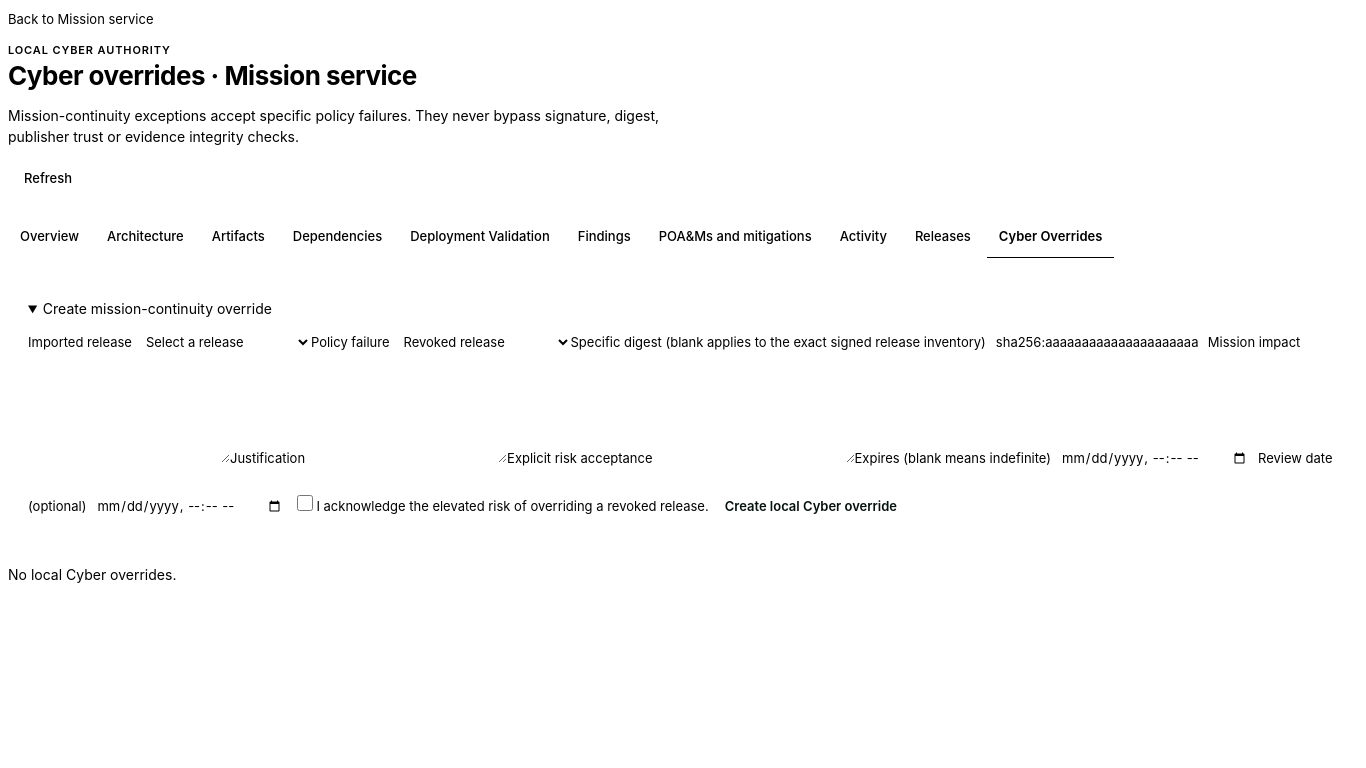
Scenario: preserves exact denial scope and supports an indefinite explicit risk acceptance
Select "Release 4 · revoked" in the dropdown labelled "Imported release" at (221, 342), box [132, 324, 311, 360]
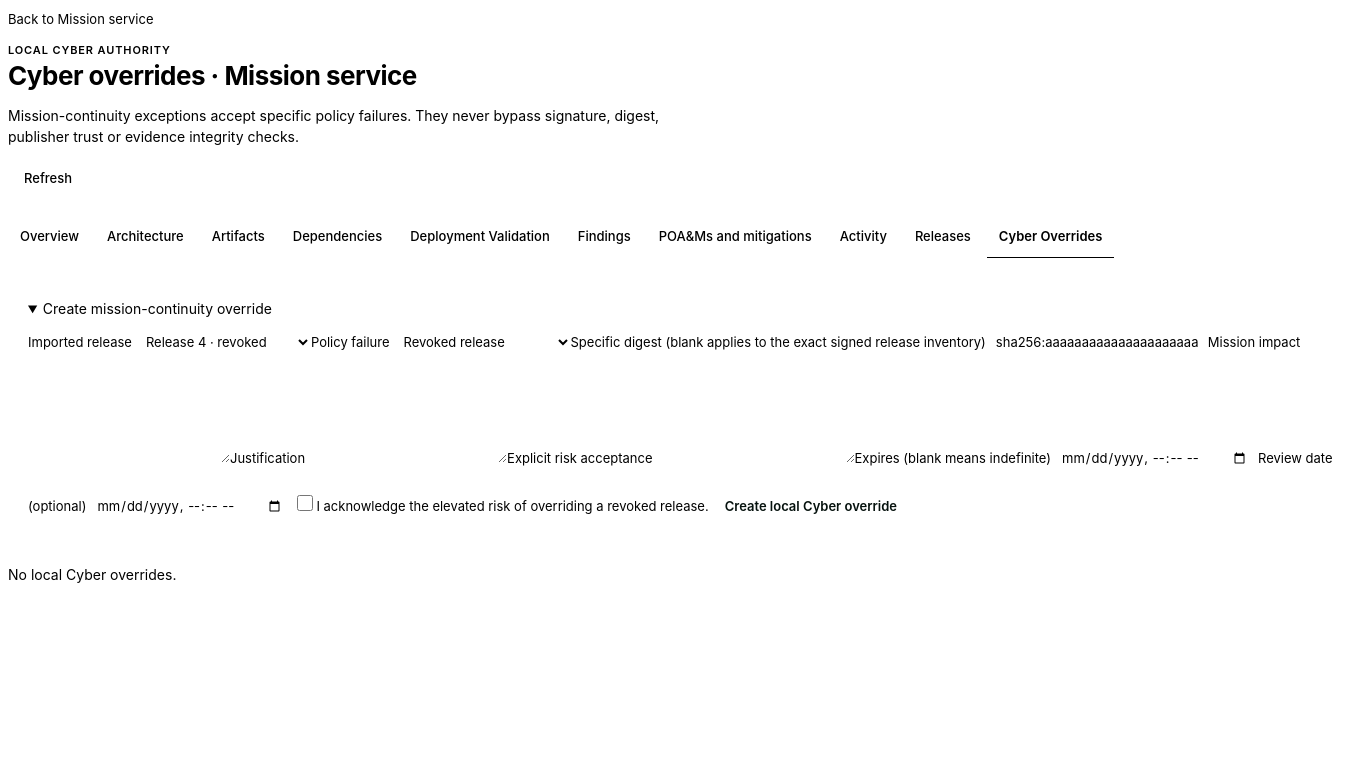
Type "Critical operations unavailable" into the text box labelled "Mission impact" at (129, 415), box [28, 367, 230, 463]
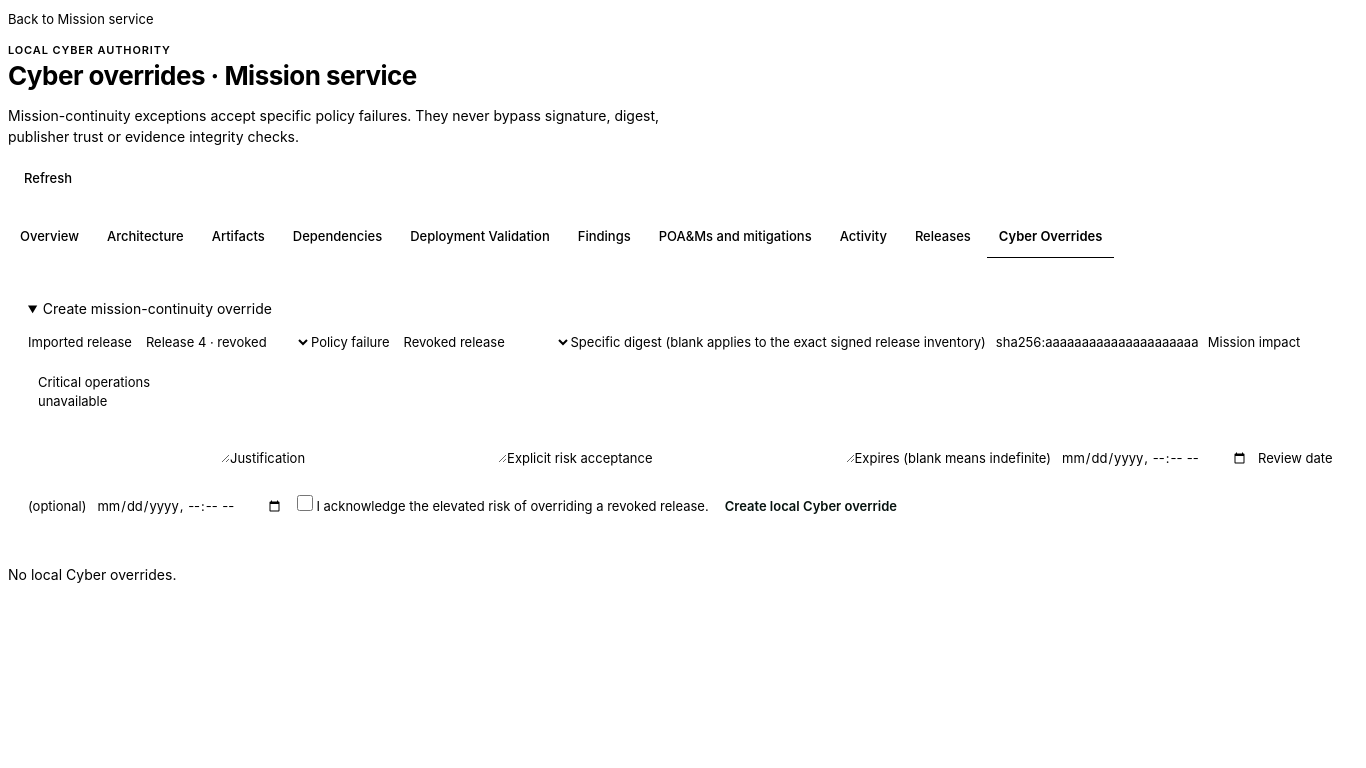
Type "Mitigations in place" into the text box labelled "Justification" at (406, 415), box [305, 367, 507, 463]
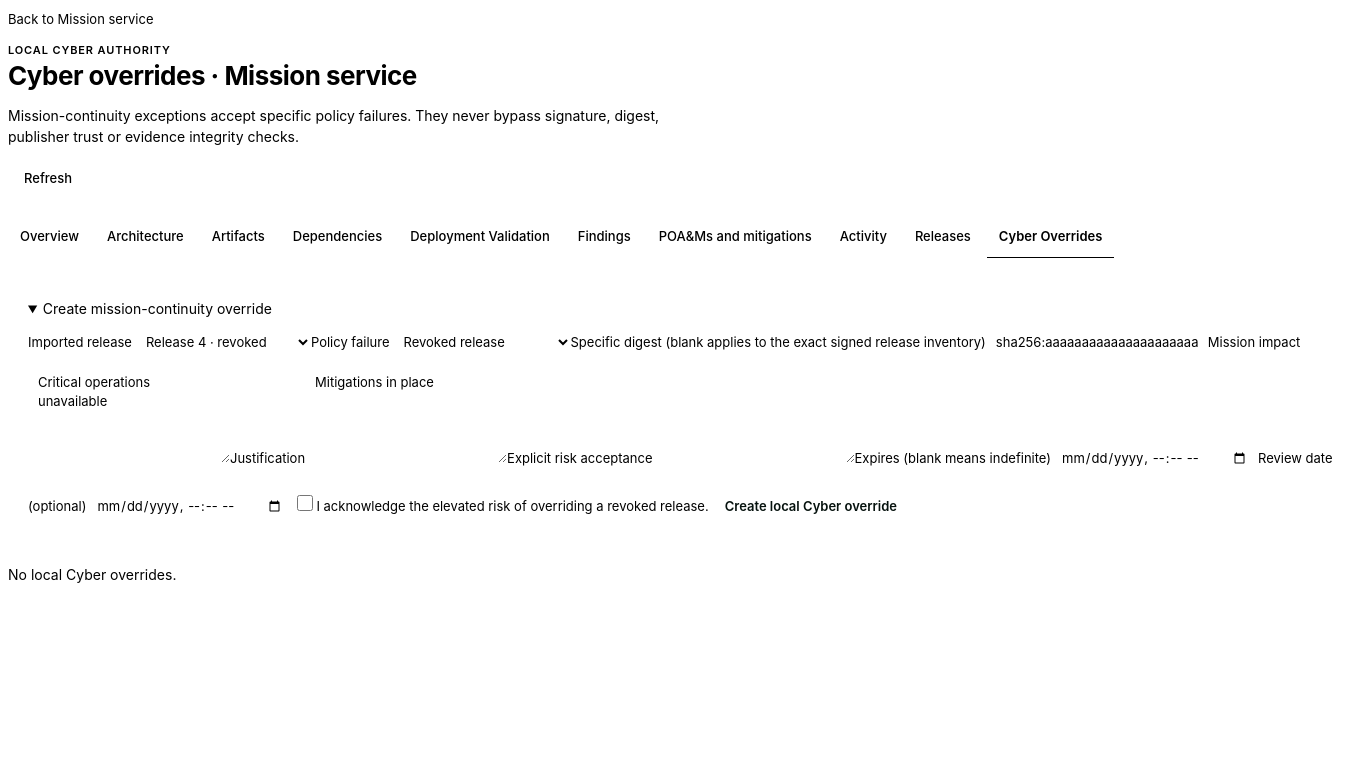
Type "Cyber accepts documented mission risk" into the text box labelled "Explicit risk acceptance" at (754, 415), box [652, 367, 854, 463]
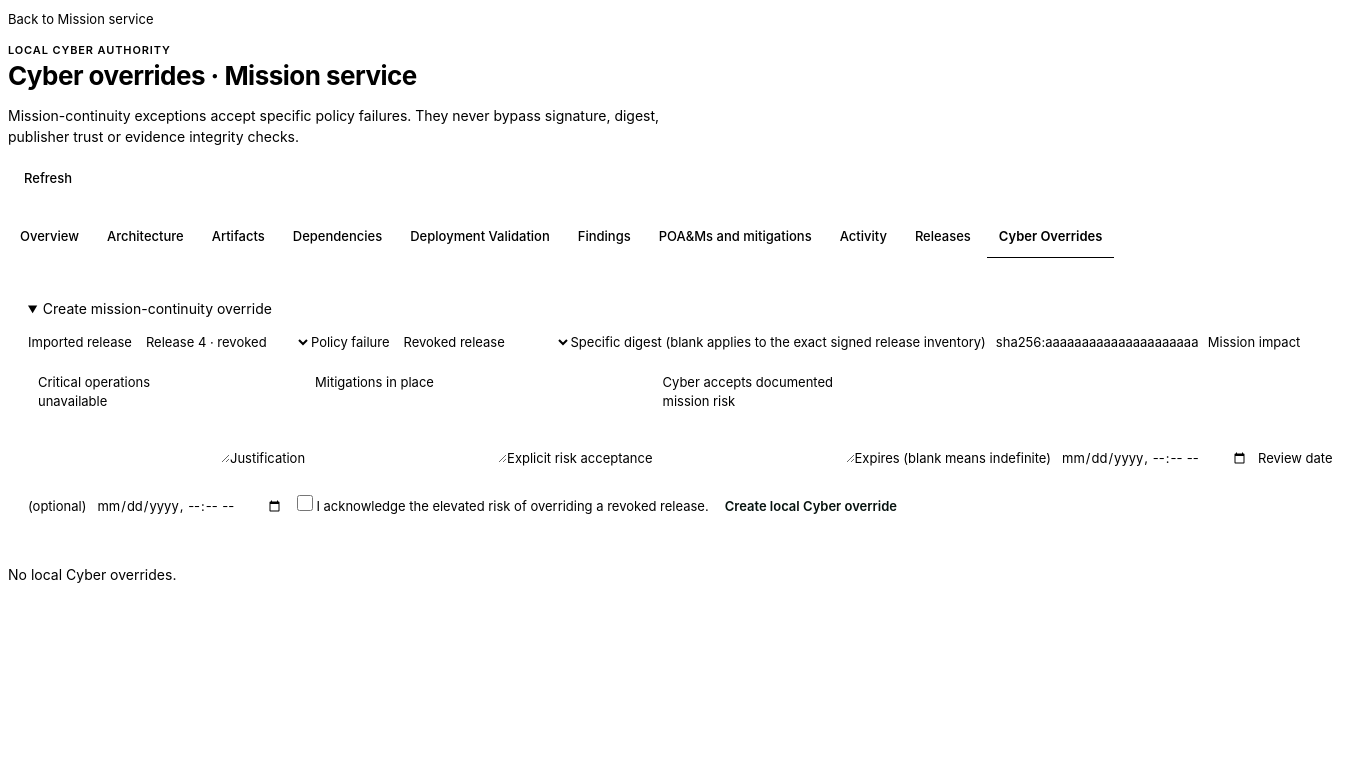
Click the checkbox at (305, 503), box [297, 495, 313, 511]
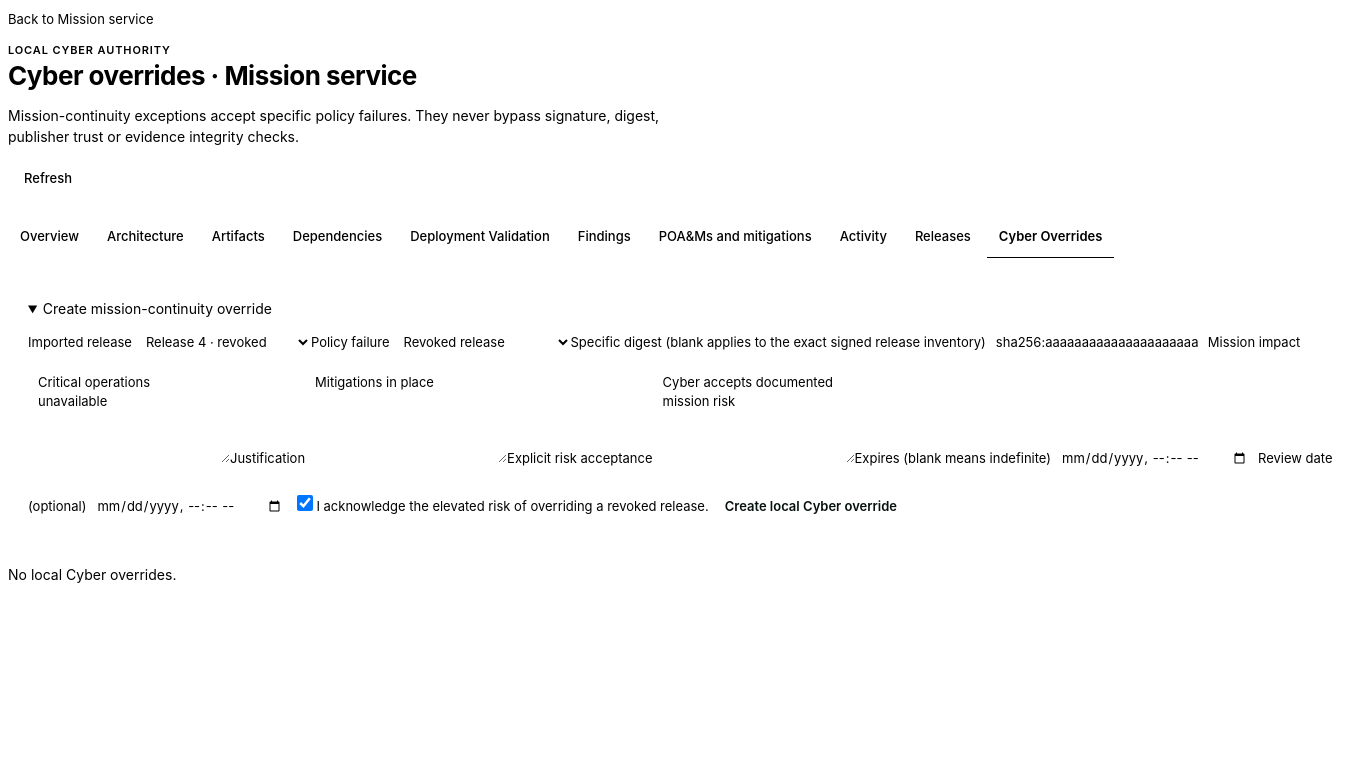
Click the button "Create local Cyber override" at (811, 506), box [709, 488, 913, 524]
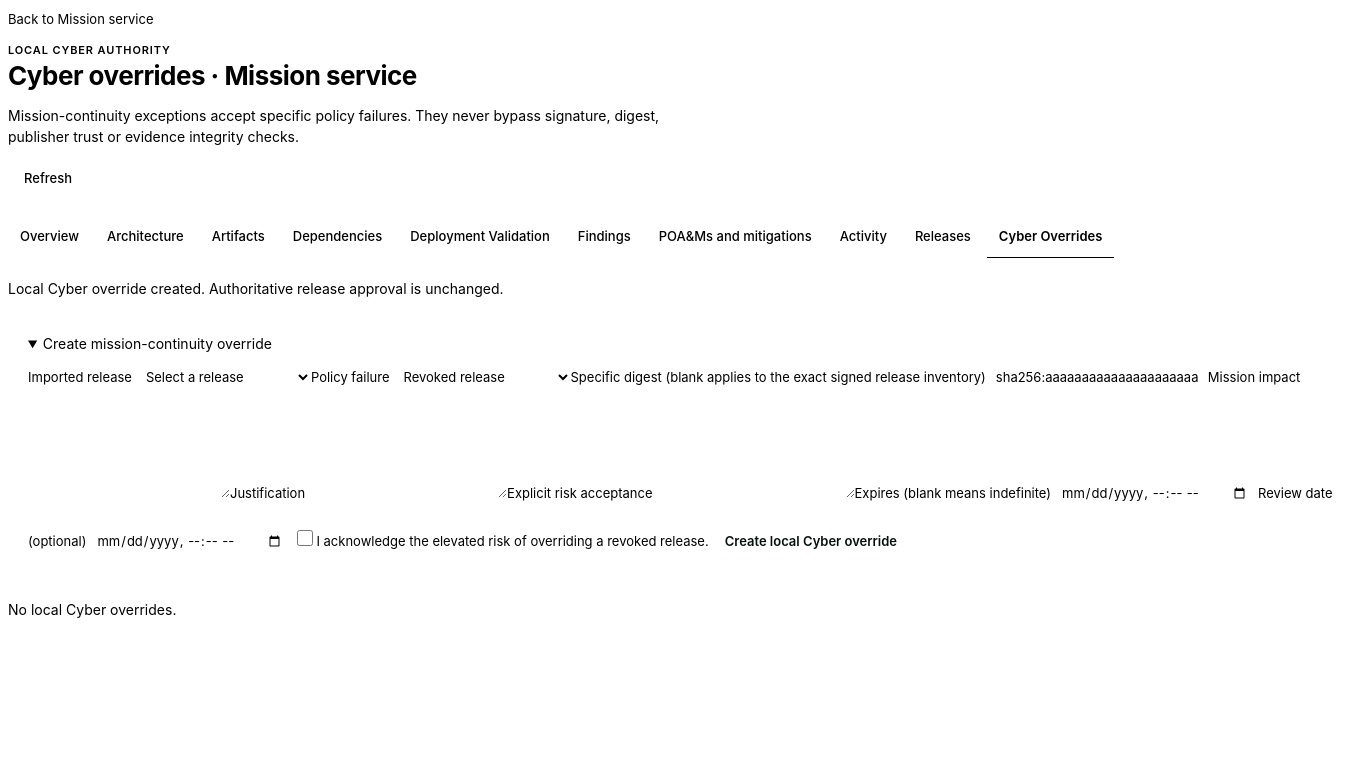
Expected: the text "Local Cyber override created. Authoritative release approval is unchanged." is shown, [8, 280, 504, 297]
